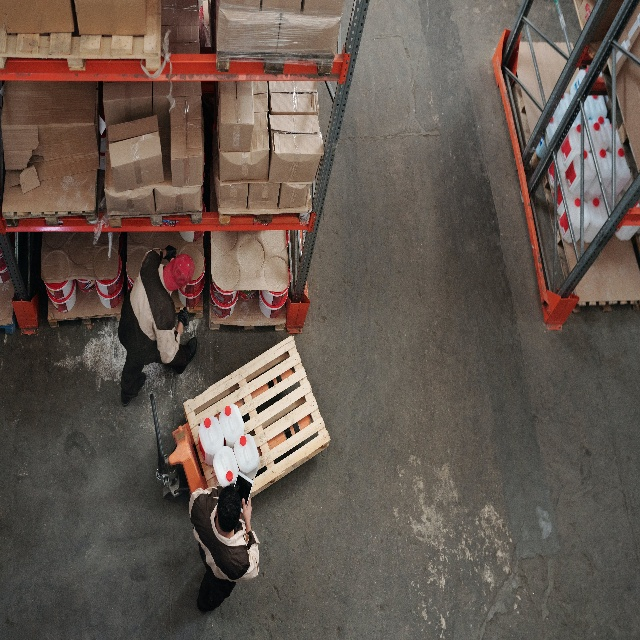Guantes: (177, 305, 190, 329)
Sin_guantes: (242, 496, 252, 530)
